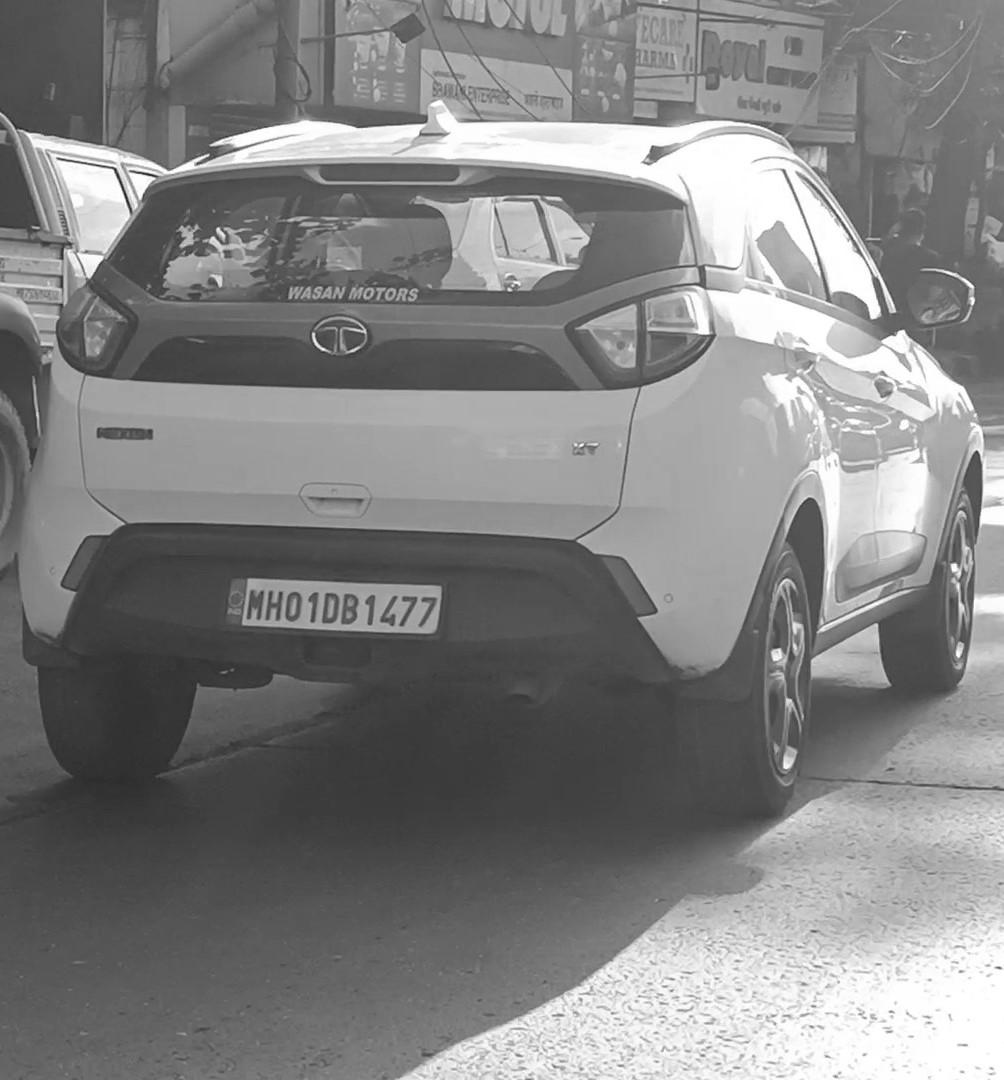number_plate: (228, 566, 451, 637)
